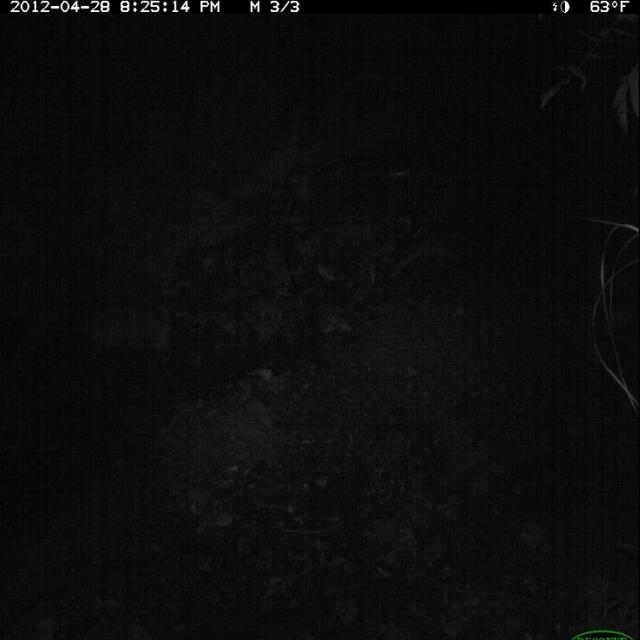opossum: (66, 295, 178, 377)
